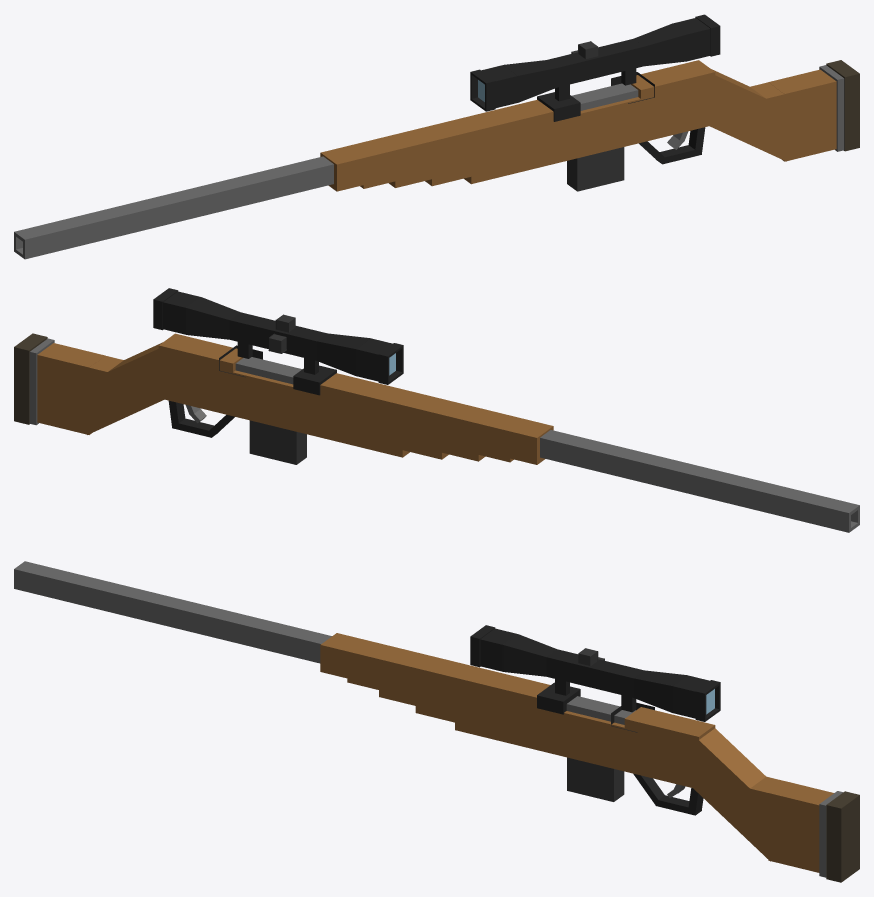
Rendered from ライフル.fbx.
The picture shows the model from 3 angles, top to bottom: view 1: azimuth 30°, elevation 25°; view 2: azimuth 150°, elevation 25°; view 3: azimuth 330°, elevation 25°; orthographic projection.
Parts seen in each view (by area): view 1: Cube; view 2: Cube; view 3: Cube.
Part boxes in pixels (x1,y1,x2,y2): Cube: (14, 14, 859, 259); Cube: (14, 288, 859, 532); Cube: (14, 561, 859, 882).
Bounding box in the file's own units: 6.71 × 1.23 × 0.2817.
